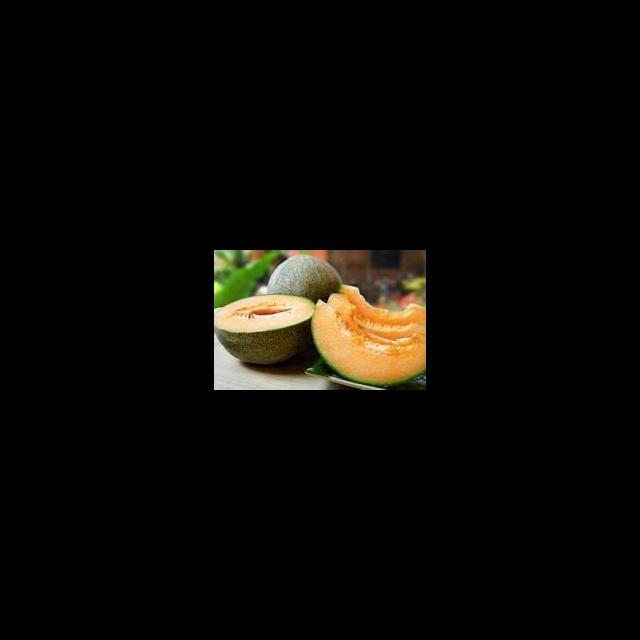Hami Melon: (311, 299, 426, 386), (214, 294, 316, 364)
